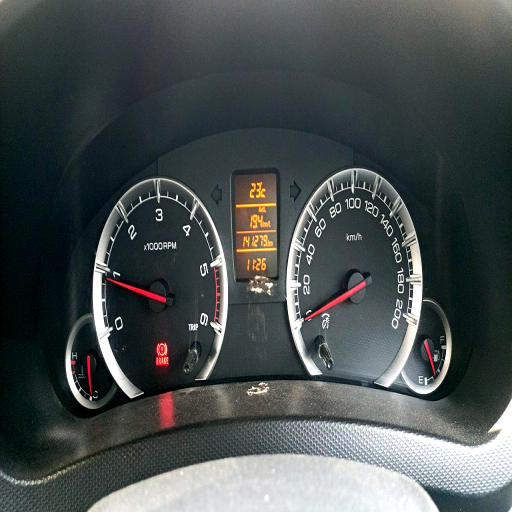brake_system_fault: (157, 342, 167, 356)
tachometer: (92, 176, 230, 398)
